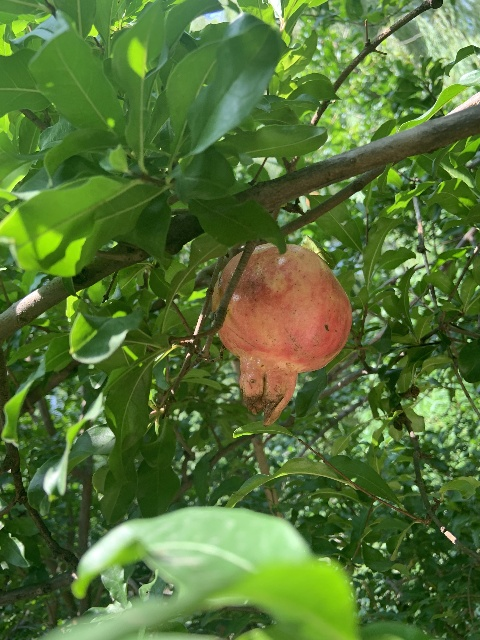ripe: (211, 243, 351, 426)
